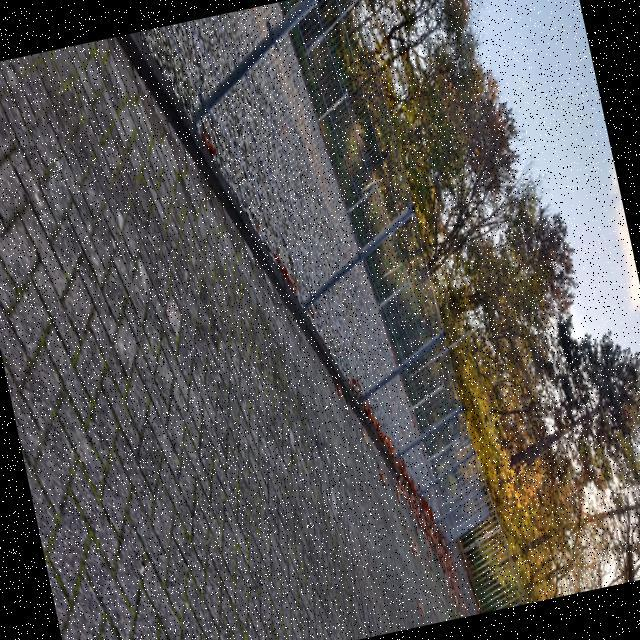fence line: (140, 0, 430, 342), (284, 201, 500, 566)
